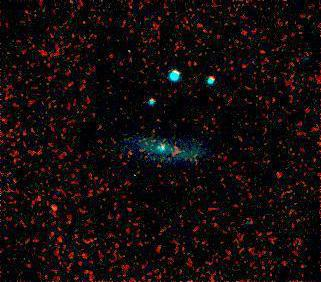star: (38, 197, 68, 227)
